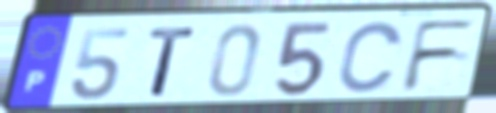0: (206, 22, 263, 99)
5: (268, 19, 338, 98), (68, 26, 132, 102)
C: (335, 19, 406, 96)
F: (398, 17, 481, 95)
T: (146, 25, 200, 99)
